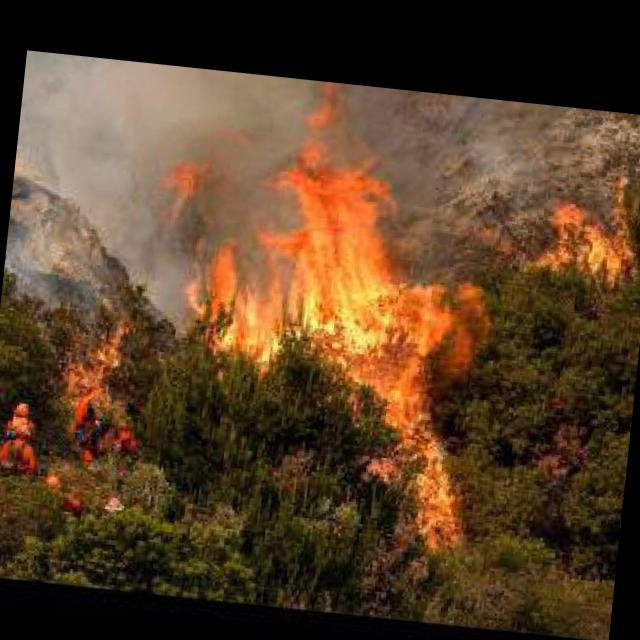fire: (37, 60, 640, 560)
